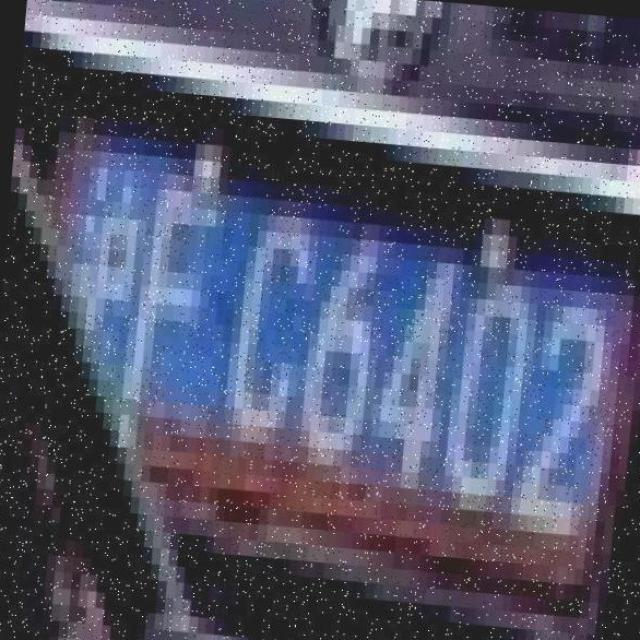license-plate: (52, 38, 640, 640)
